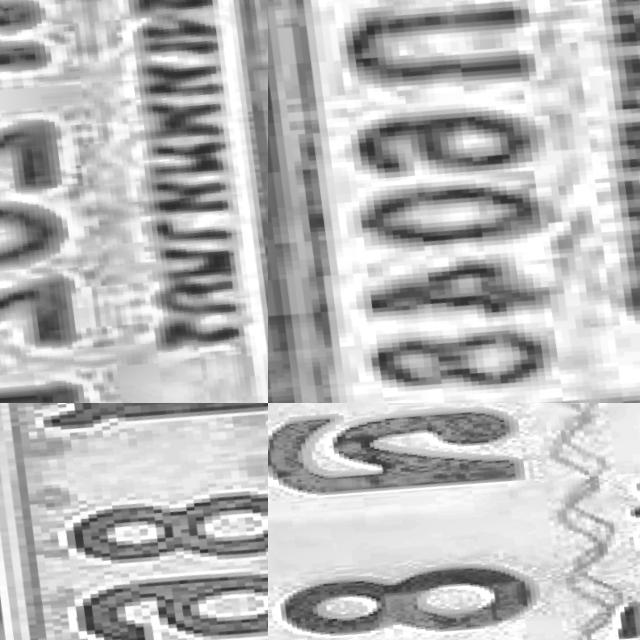license-plate: (268, 0, 640, 403), (0, 0, 268, 403), (268, 403, 640, 640), (0, 403, 268, 640)
